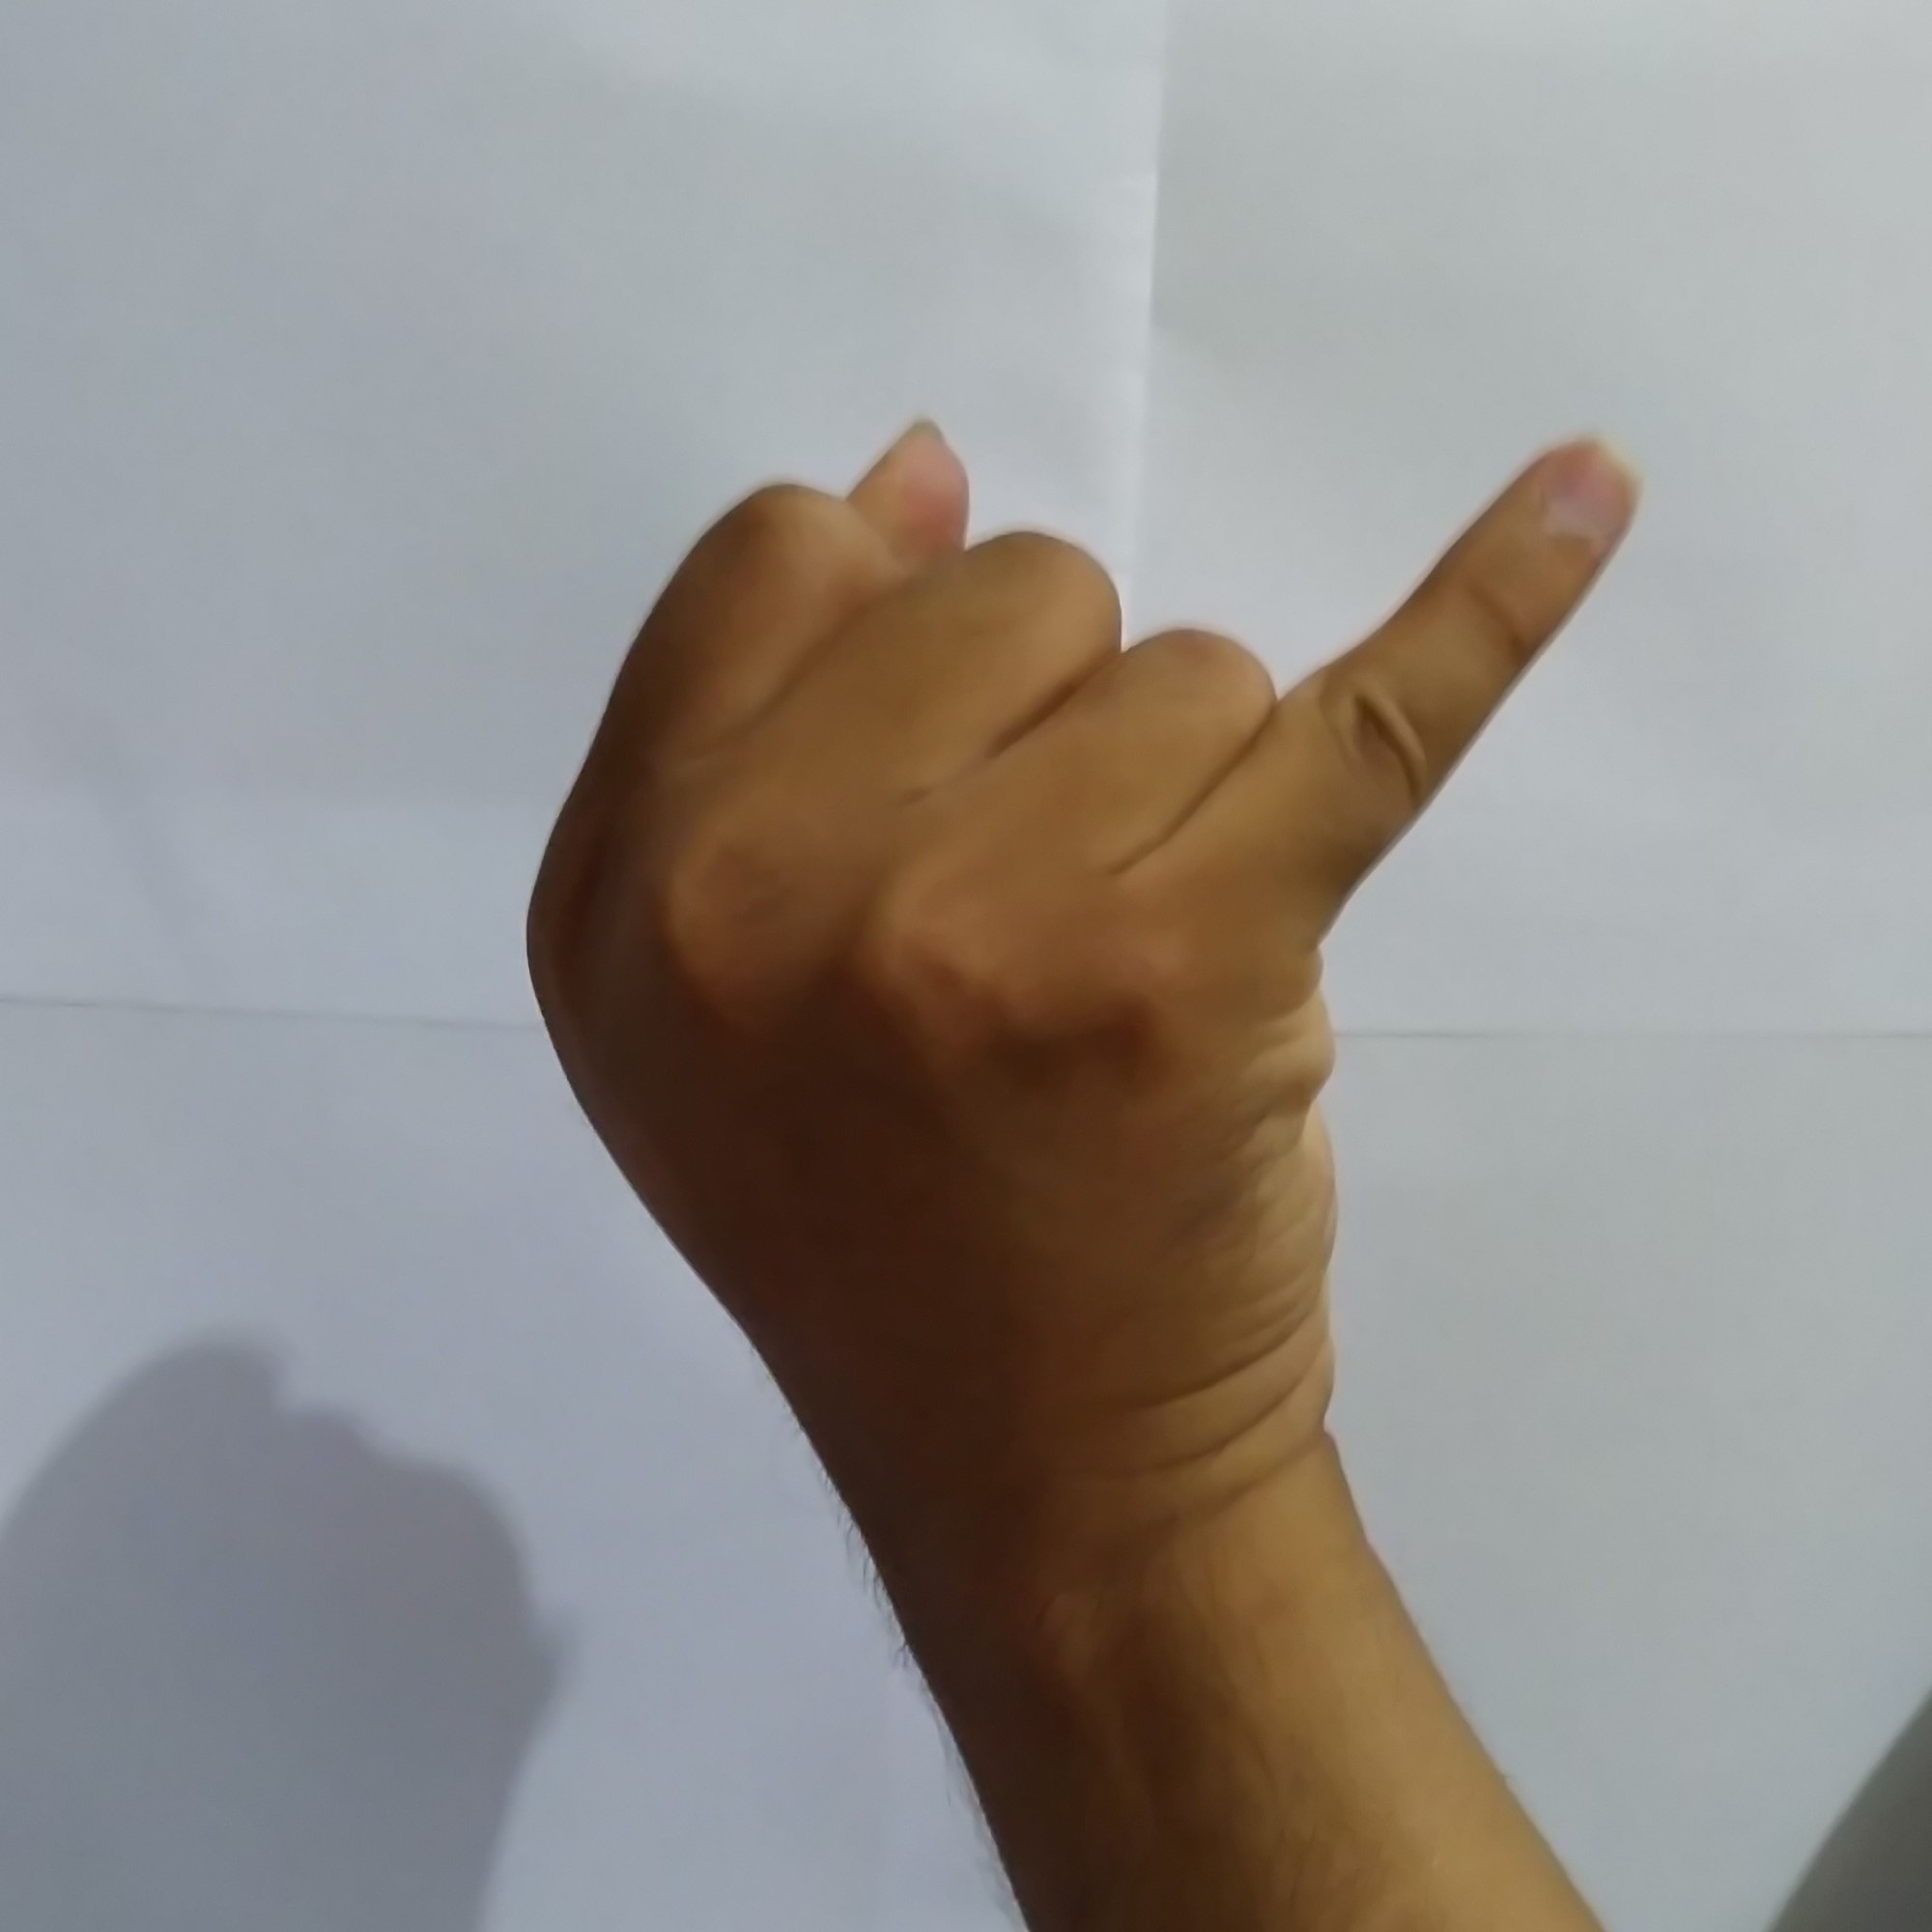J: (499, 395, 1663, 1431)
